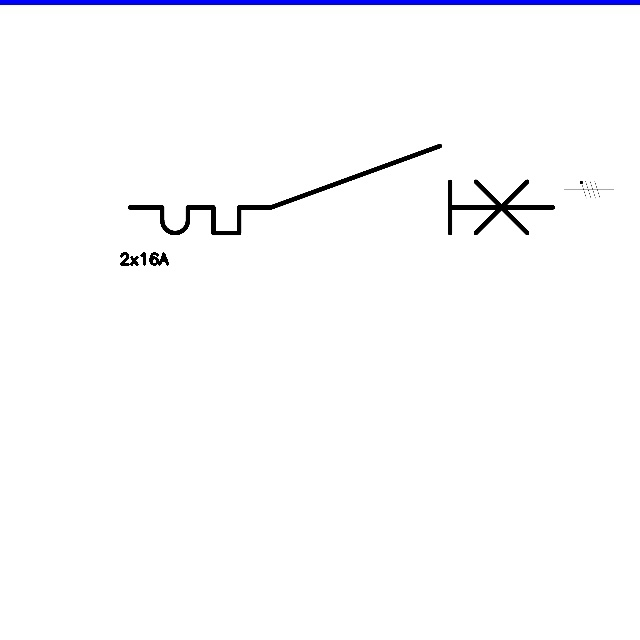interruptor_termomagnetico: (119, 135, 564, 244)
